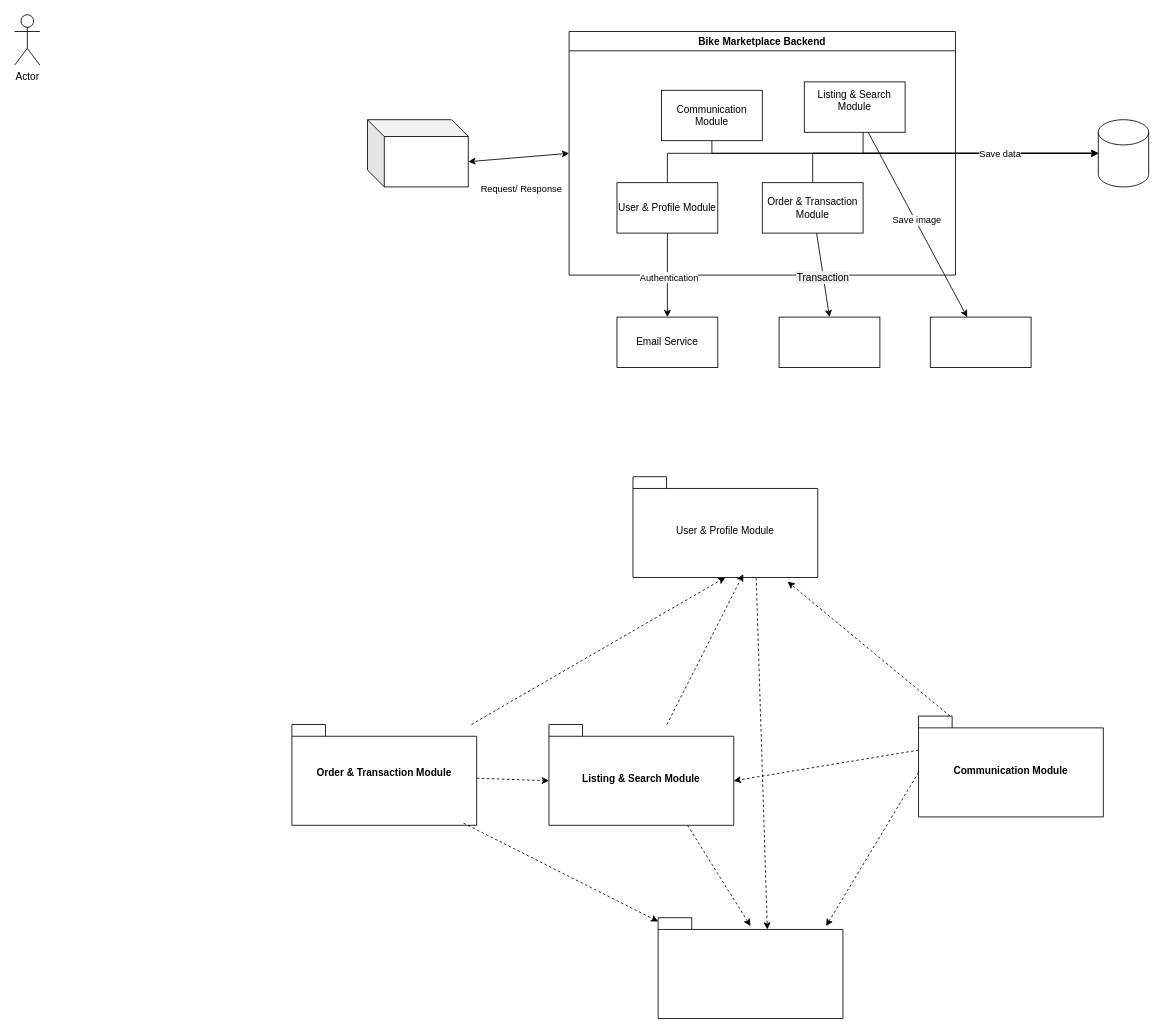
Some shapes in this 1163 by 1033 pixel diagram are drawn without their labels. The shapes that lost their labels are listed below. From the top down, each one's centre as x and y in pixels, then its label:
(x=417, y=153): Web Browser
(x=1123, y=153): Database
(x=829, y=342): Payment Gateways
(x=980, y=342): Cloud Storage (firebase)
(x=750, y=967): Shared Utilities
